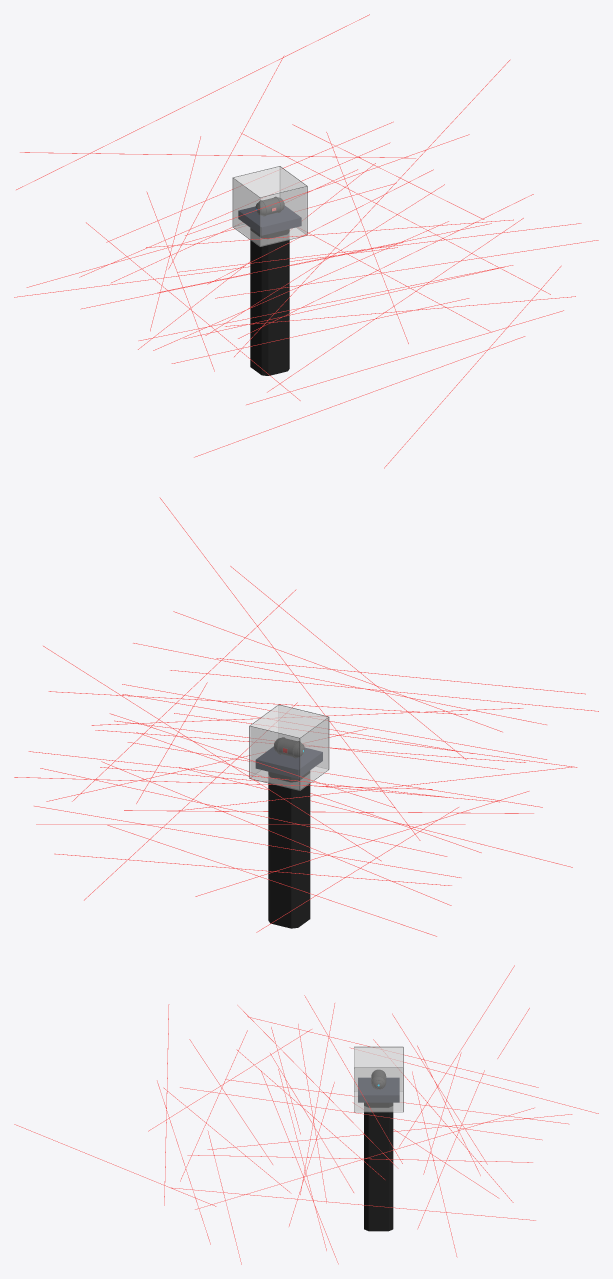
Rendered from time_capsule.glb.
3 renders of one model, top to bottom at view 1: azimuth 30°, elevation 25°; view 2: azimuth 150°, elevation 25°; view 3: azimuth 270°, elevation 25°, orthographic. The views are drawn at different scales.
Visible parts, largest first — view 1: Plane.001_2, Cube_3, Plane_1; view 2: Plane.001_2, Cube_3, Plane_1; view 3: Plane.001_2, Cube_3, Plane_1.
Part boxes in pixels (bbox=[...]): Plane.001_2: bbox=[250, 228, 289, 375]; Cube_3: bbox=[233, 167, 306, 245]; Plane_1: bbox=[238, 205, 301, 235]; Plane.001_2: bbox=[268, 771, 310, 928]; Cube_3: bbox=[250, 705, 328, 789]; Plane_1: bbox=[255, 746, 322, 778]; Plane.001_2: bbox=[364, 1102, 393, 1231]; Cube_3: bbox=[354, 1047, 402, 1111]; Plane_1: bbox=[358, 1077, 399, 1102].
Bounding box in the file's own units: 62.38 × 44.11 × 84.12.
9 materials, 1 textured.
